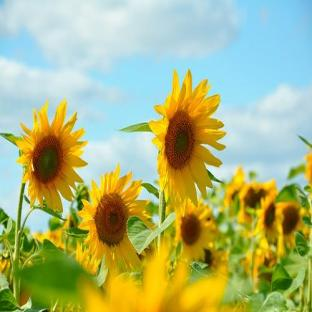sunflower: (117, 69, 227, 220), (0, 98, 88, 217)
